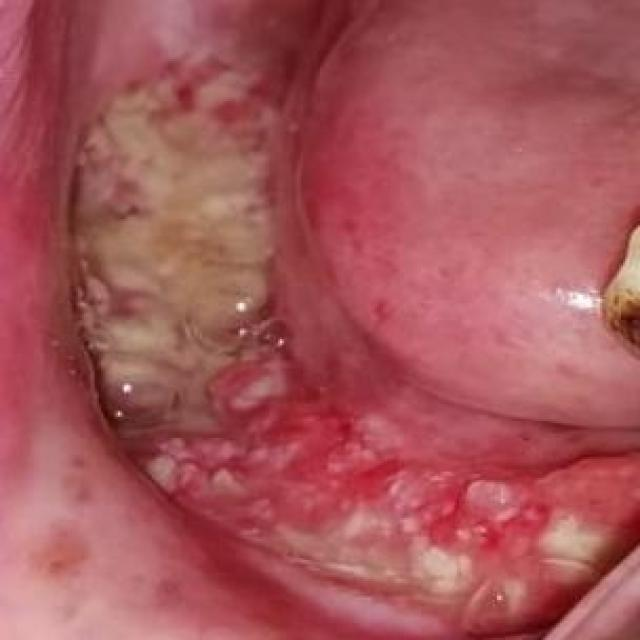cancer-detection: (61, 60, 638, 637)
processing_area: (0, 0, 638, 638)
